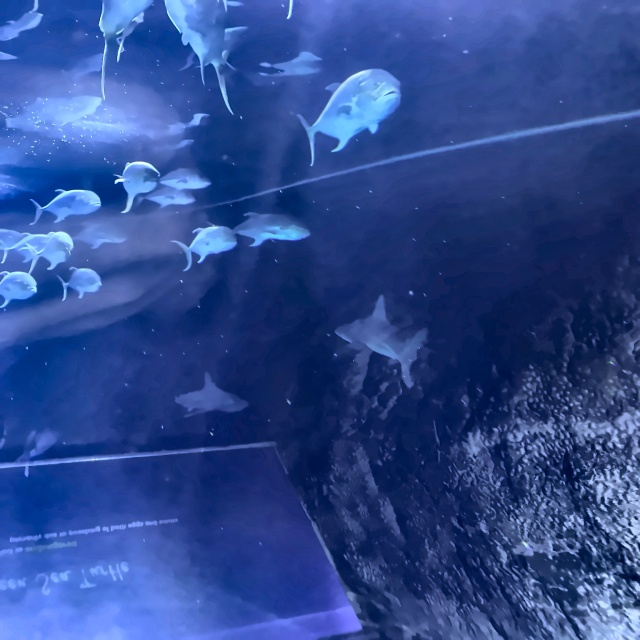fish: (295, 69, 400, 167), (162, 0, 252, 114), (99, 0, 156, 103), (201, 212, 309, 247), (169, 227, 237, 271), (28, 189, 101, 224), (114, 162, 158, 214), (26, 231, 74, 274), (55, 267, 102, 301), (1, 232, 50, 263), (72, 223, 130, 249), (133, 187, 196, 210), (0, 272, 38, 309), (160, 167, 212, 189)
shark: (334, 294, 429, 389), (176, 372, 248, 420)
